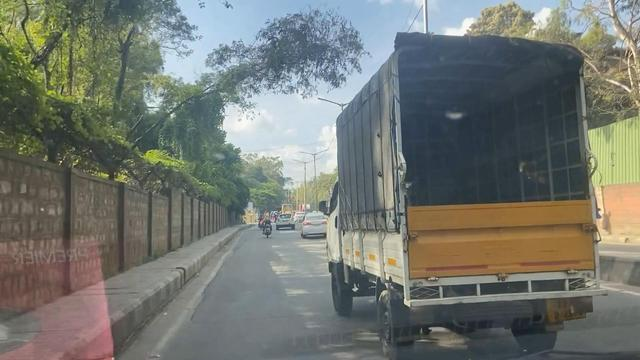HMV: (325, 26, 620, 360)
